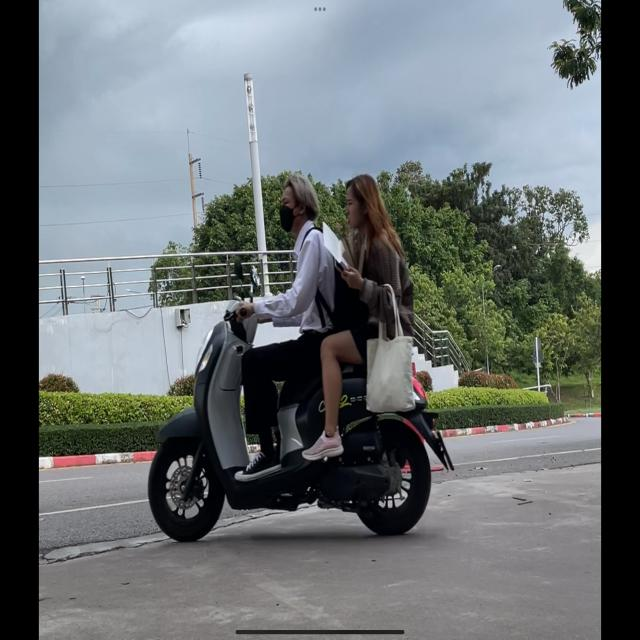seatbelt: (278, 173, 320, 234), (344, 172, 382, 230)
